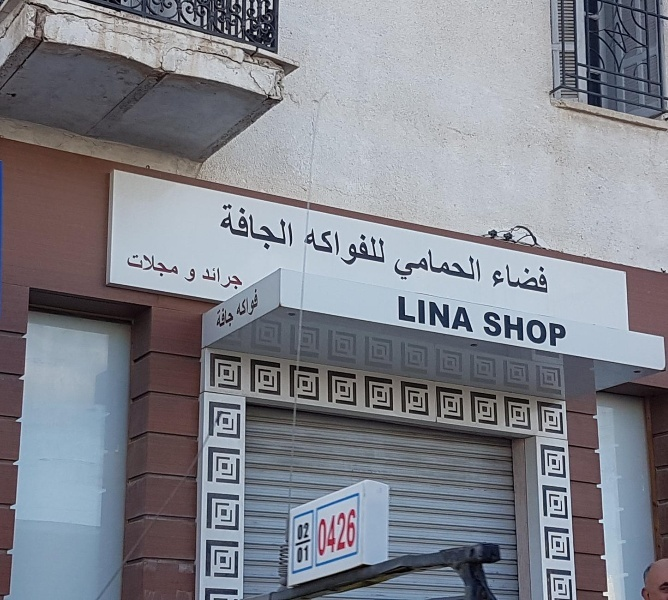text: (225, 202, 240, 255), (241, 202, 256, 255), (257, 202, 272, 255), (273, 202, 288, 255), (321, 224, 336, 273), (337, 224, 352, 273), (353, 224, 368, 273), (369, 224, 384, 273), (321, 509, 336, 557), (337, 509, 352, 557), (307, 224, 320, 273), (401, 295, 416, 333), (417, 295, 432, 333), (433, 295, 448, 333), (449, 295, 464, 333), (401, 246, 416, 284), (417, 246, 432, 284), (433, 246, 448, 284), (449, 246, 464, 284), (465, 246, 480, 284), (481, 311, 496, 349), (497, 311, 512, 349), (513, 311, 528, 349), (529, 311, 544, 349), (545, 311, 560, 349), (241, 288, 256, 323), (497, 264, 512, 297), (513, 264, 528, 297), (529, 264, 544, 297), (209, 265, 224, 294), (225, 265, 240, 294), (129, 251, 144, 280), (145, 251, 160, 280), (161, 251, 176, 280), (313, 509, 320, 557), (465, 295, 473, 333), (225, 304, 235, 331), (561, 311, 568, 349), (215, 304, 224, 331), (289, 202, 293, 255), (545, 264, 551, 297), (353, 509, 357, 557), (235, 288, 240, 323), (385, 224, 388, 273), (298, 522, 304, 542), (305, 522, 311, 542), (298, 546, 304, 564), (222, 202, 224, 255), (193, 268, 199, 283), (398, 295, 400, 333), (481, 246, 483, 284), (305, 546, 309, 564), (257, 288, 259, 323), (241, 265, 243, 294), (177, 251, 179, 280), (191, 268, 192, 283)
